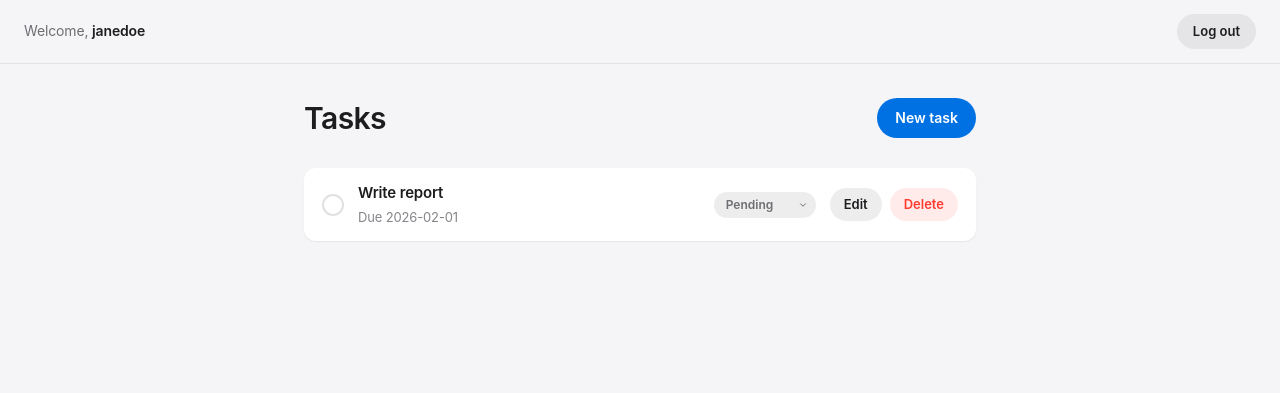
Scenario: TasksPage › marks a task as completed when its row is clicked, moving it to the Completed section
The width and height of the screenshot is (1280, 393).
Click the text "Write report" at (401, 193), box [358, 183, 443, 202]
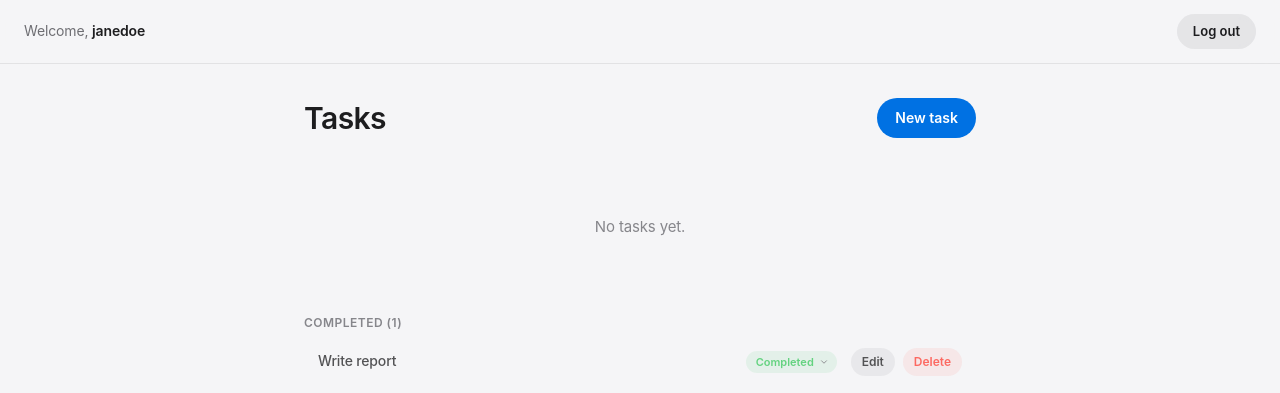
Now the heading "Completed (1)" is shown, box [304, 315, 402, 330]
